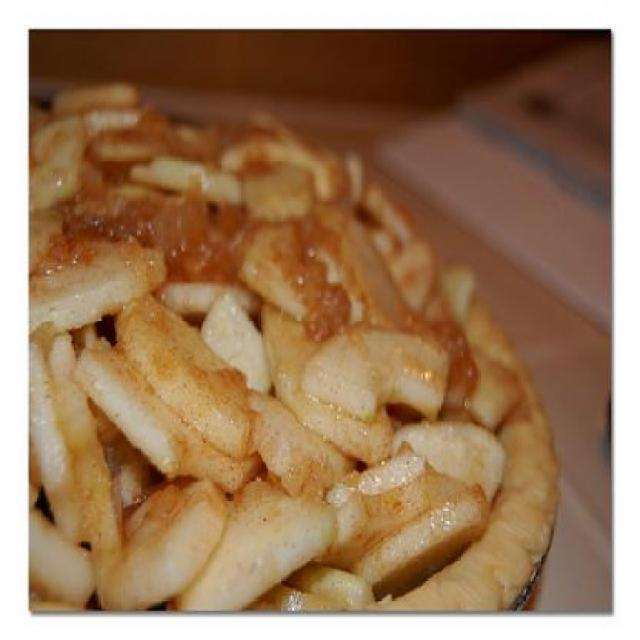Apple: (27, 96, 546, 607)
